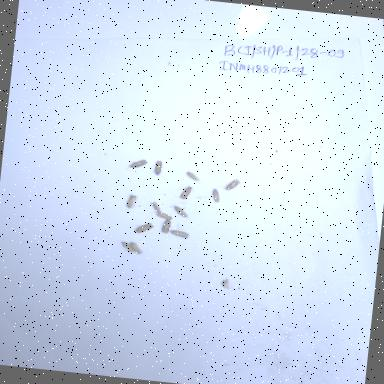pbw: (142, 153, 170, 176), (132, 218, 153, 236), (170, 226, 192, 242), (116, 240, 136, 256), (124, 192, 140, 210), (178, 184, 194, 201), (128, 240, 145, 256), (160, 218, 176, 234), (184, 169, 202, 183), (172, 206, 190, 219), (225, 178, 241, 192), (130, 158, 148, 170), (210, 188, 222, 204), (149, 201, 163, 214), (156, 212, 174, 221)
